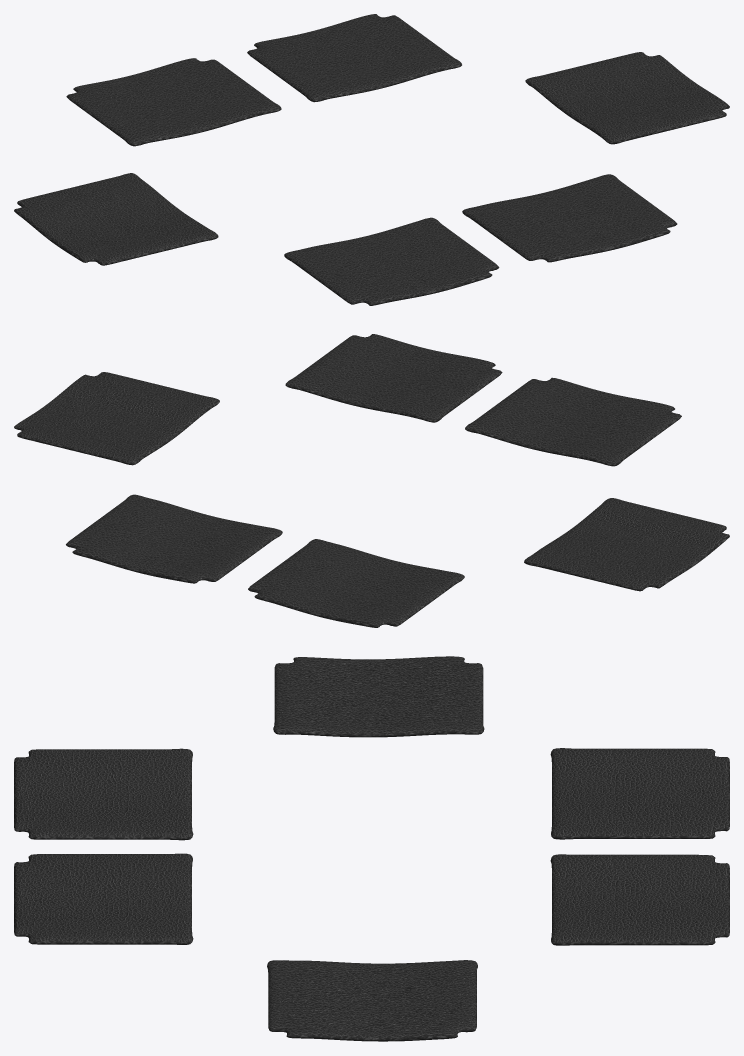
The model's file is ztzh.pg.obj.
3 views of the same model, one above another, from view 1: azimuth 30°, elevation 25°; view 2: azimuth 150°, elevation 25°; view 3: azimuth 270°, elevation 25° (orthographic). The views are drawn at different scales.
Visible parts, largest first — view 1: pg; view 2: pg; view 3: pg.
Part boxes in pixels (x1=…): pg: x1=14, y1=14, x2=729, y2=305; pg: x1=14, y1=334, x2=729, y2=627; pg: x1=14, y1=656, x2=729, y2=1041.
Size of the model in its own units: 242 by 2.62 by 193.
1 material, 1 textured.
